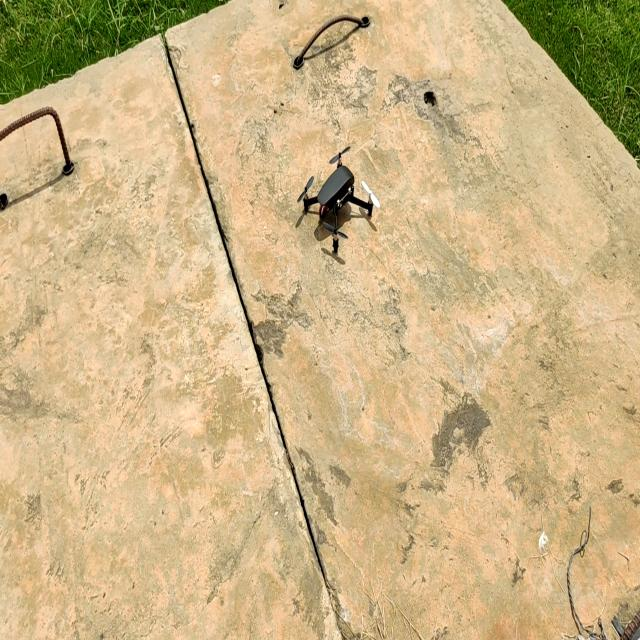drone: (290, 133, 394, 275)
